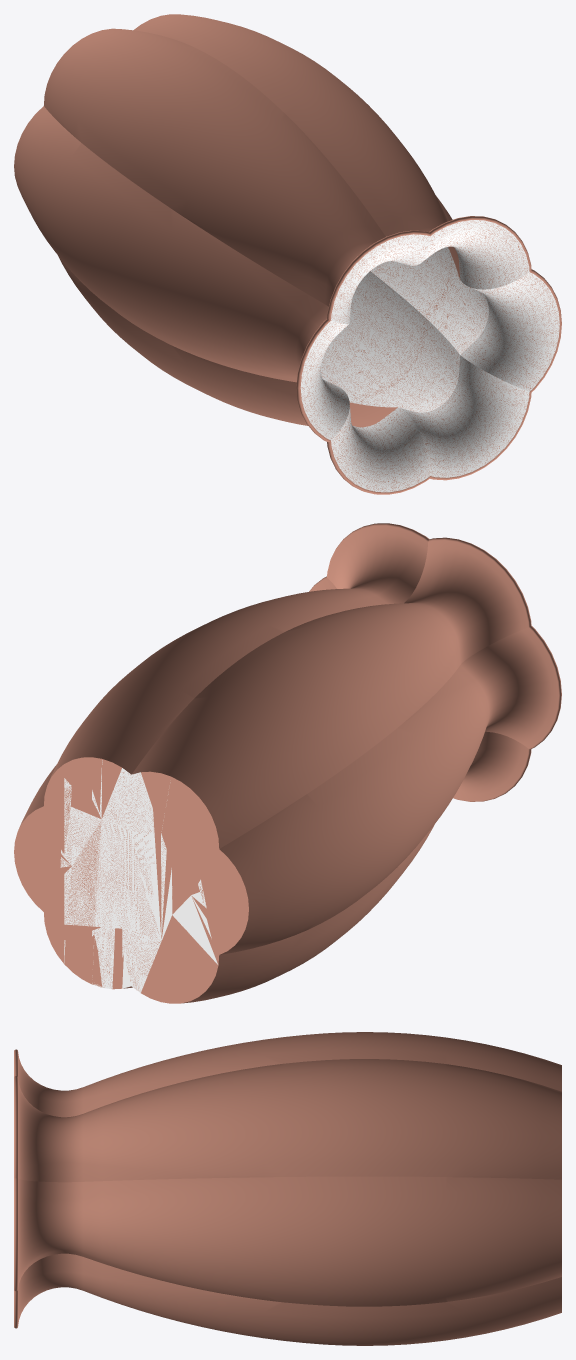
The model's file is model_align.obj.
The picture shows the model from 3 angles, top to bottom: view 1: azimuth 30°, elevation 25°; view 2: azimuth 150°, elevation 25°; view 3: azimuth 270°, elevation 25°; orthographic projection. The views are drawn at different scales.
Parts seen in each view (by area): view 1: mesh8_mesh8-geometry; view 2: mesh8_mesh8-geometry; view 3: mesh8_mesh8-geometry.
Part boxes in pixels (x1,y1,x2,y2): mesh8_mesh8-geometry: (14,14,561,494); mesh8_mesh8-geometry: (14,523,561,1003); mesh8_mesh8-geometry: (14,1032,561,1345).
Size of the model in its own units: 0.136 by 0.1286 by 0.2364.
